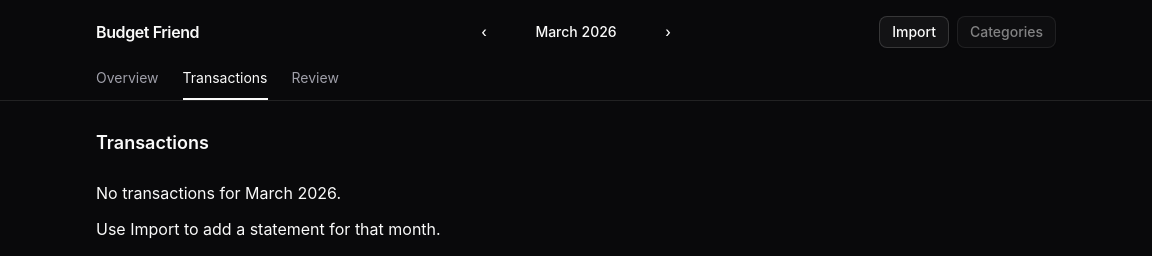
Test: stepping the month writes it to the url and keeps the view
Expected: the text "March 2026" is shown, [535,23,617,40]
Step 1. Click the button named "Previous month" → (484, 32), box [468,16,500,48]
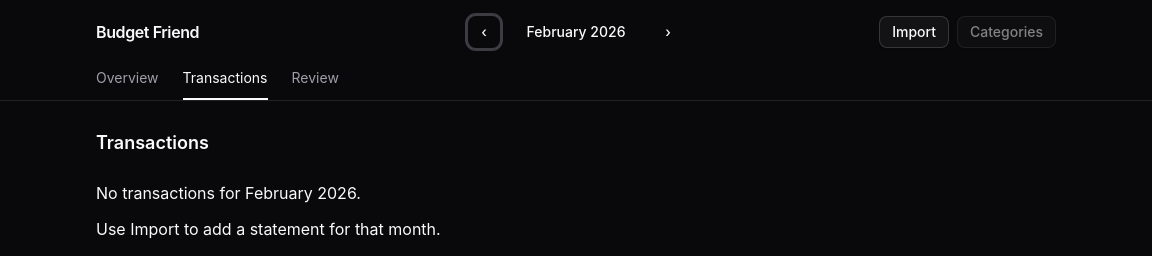
Expected: the text "February 2026" is shown, [526,23,625,40]
